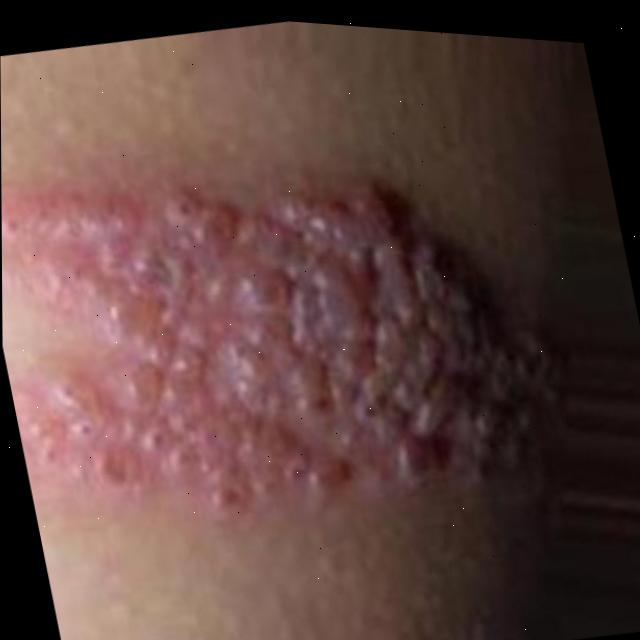Shingles: (1, 91, 569, 576)
